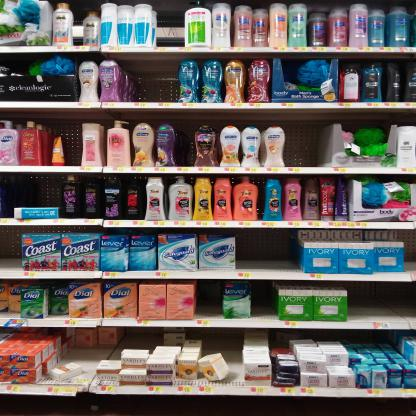Void: (349, 284, 412, 320), (128, 61, 180, 100), (240, 232, 295, 268), (287, 118, 322, 166), (5, 174, 61, 203), (158, 7, 186, 47), (202, 329, 239, 355), (66, 117, 80, 170), (254, 285, 278, 313), (200, 281, 219, 316), (3, 233, 20, 270), (126, 328, 156, 343), (74, 350, 116, 359)
